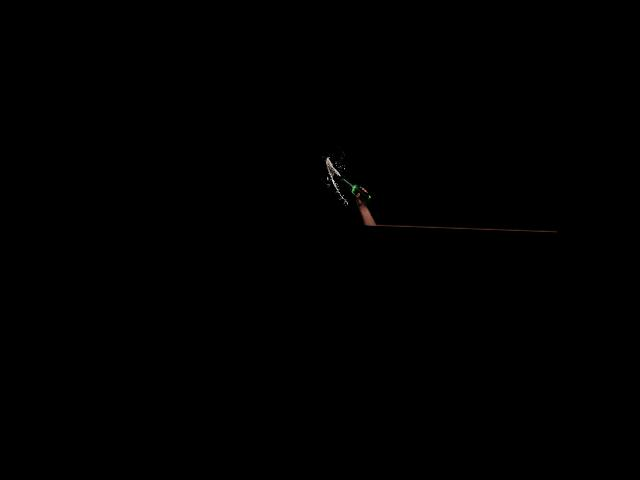beer: (340, 177, 372, 203)
